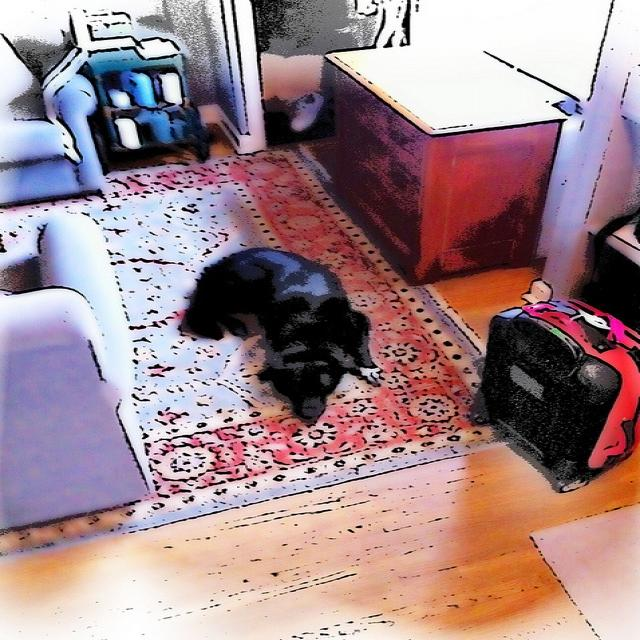dog: (184, 246, 382, 423)
